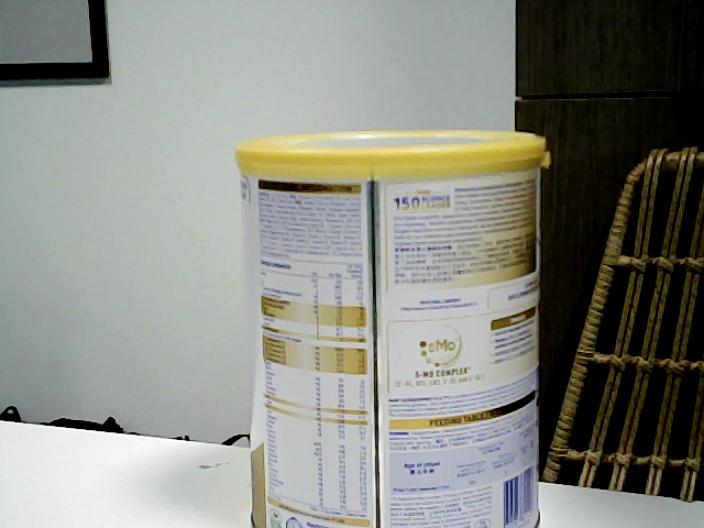Babymilk-powder_800-899g_Halal_NonHealthy: (233, 127, 551, 528)
